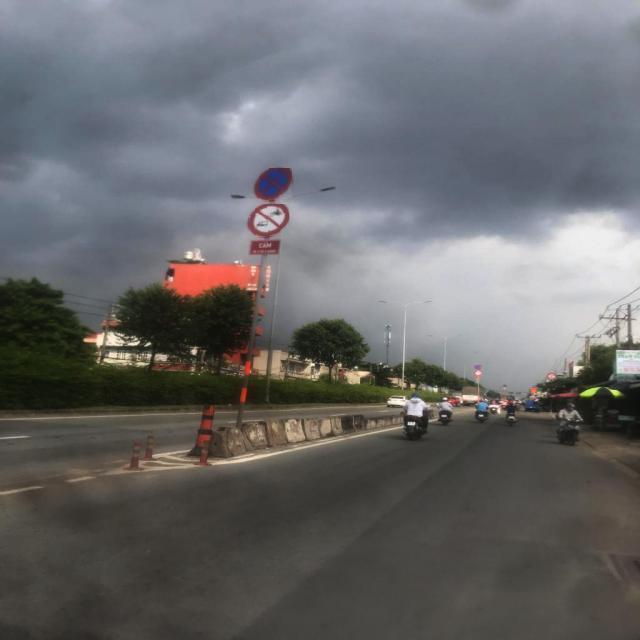107-cam-oto-khach-va-oto-tai: (548, 373, 556, 380)
